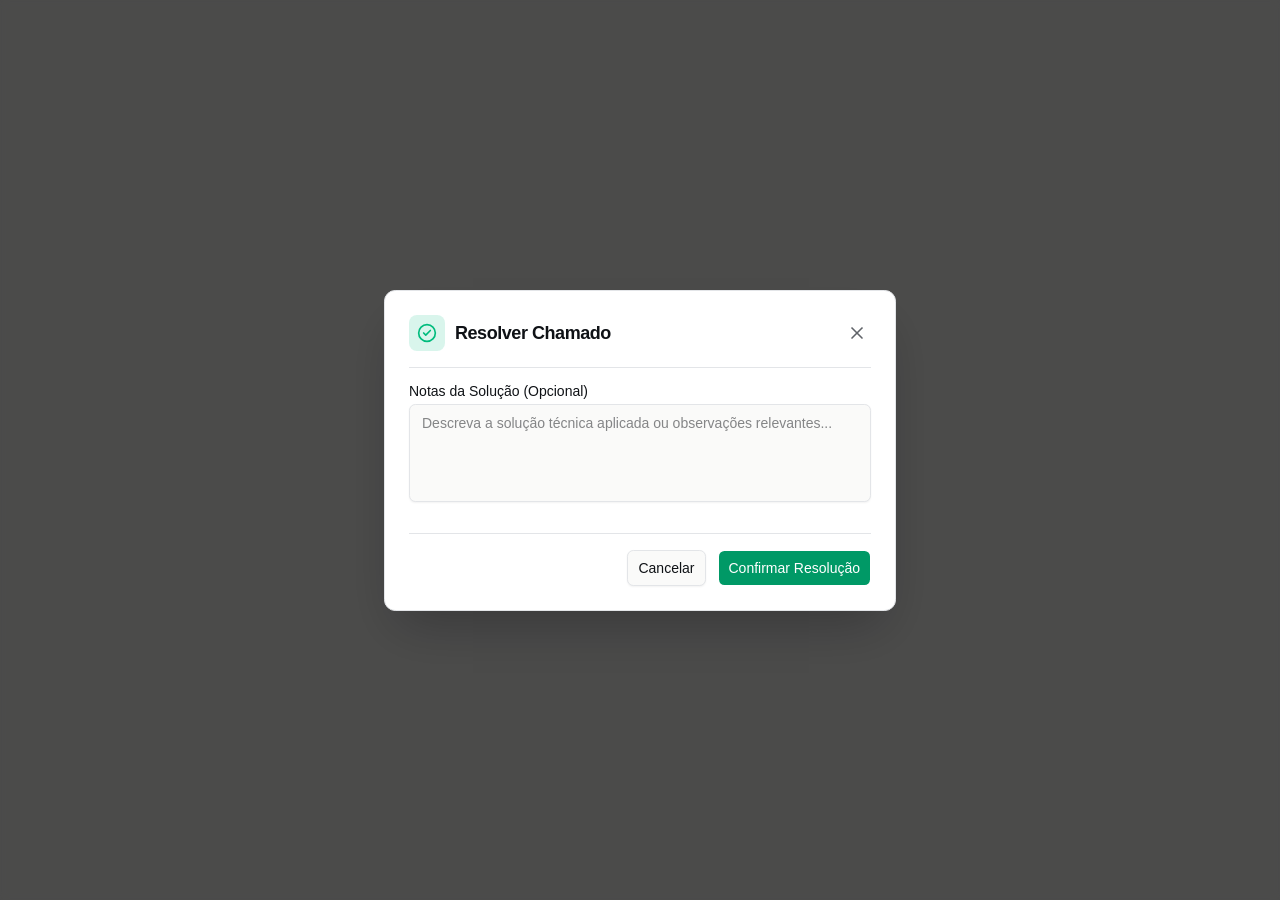
Scenario: ResolveTicketModal › deve exibir mensagem de erro se a API falhar
Step 1. Click the button "Confirmar Resolução" → (794, 568), box [718,550,871,586]
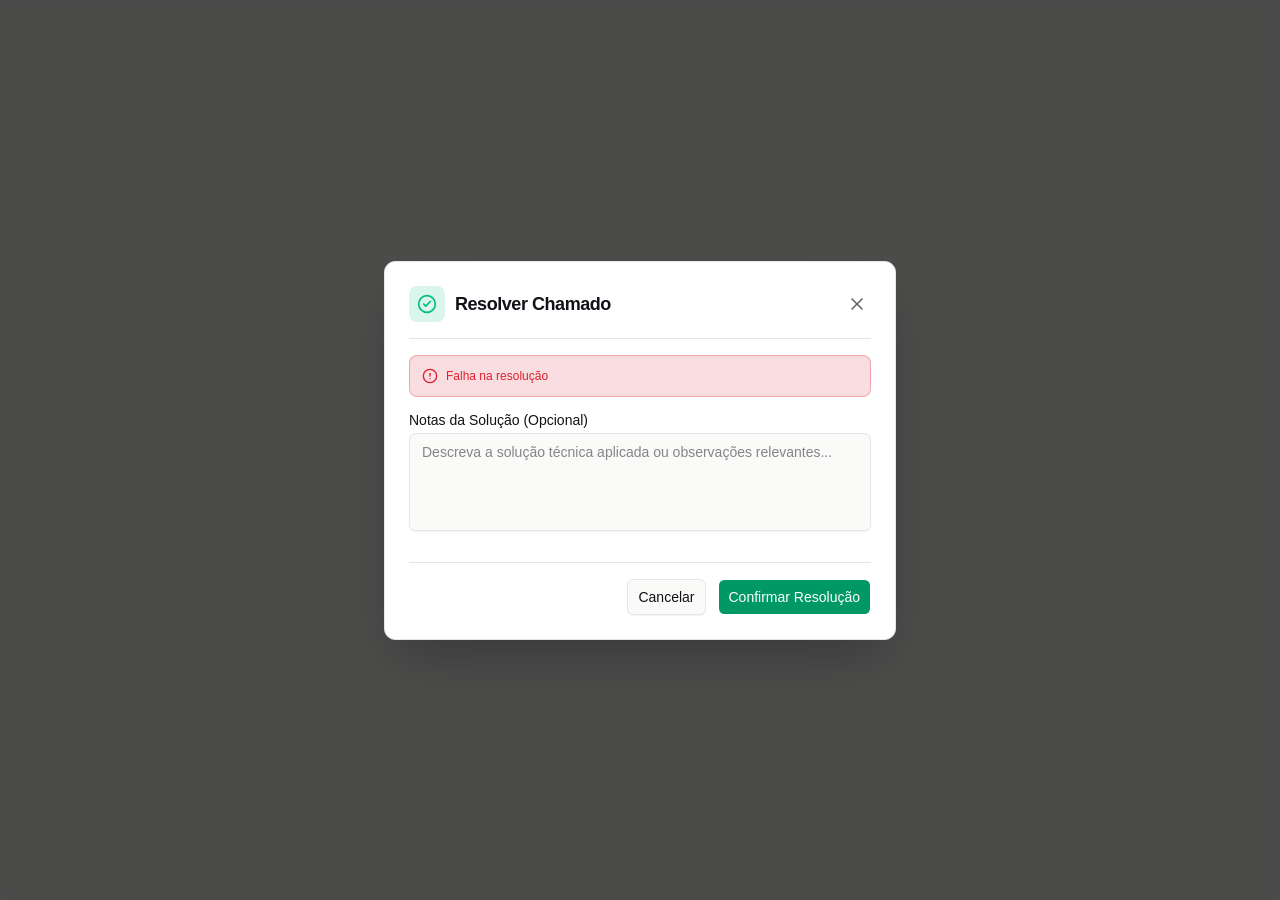
Expected: the text "Falha na resolução" is shown, [446,368,548,384]
